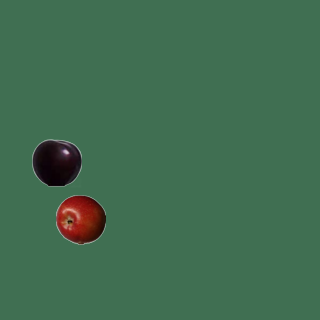Apple Braeburn: (55, 194, 105, 244)
Cherry Wax Black: (31, 137, 81, 187)
